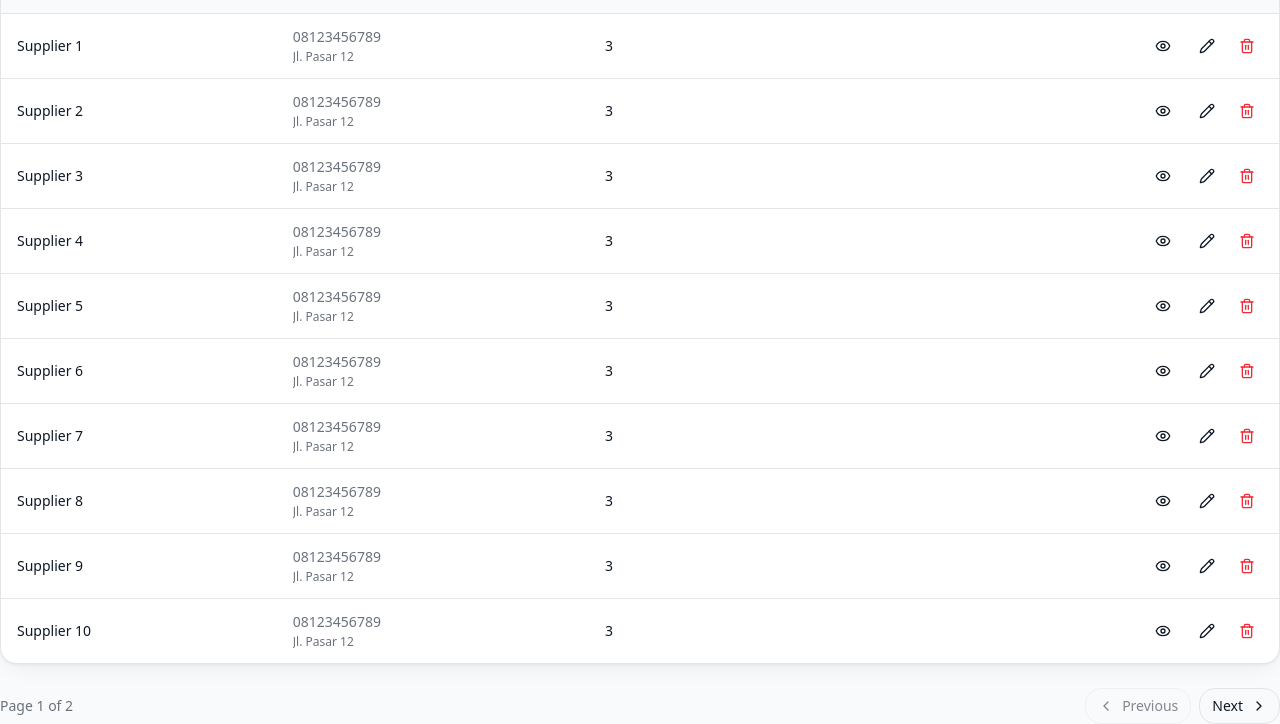
POS-29-2 supplier admin list verification › 5. Supplier pagination controls fetch page 2
(page scrolled)
Expected: the text "Supplier 1" is shown, [1,14,277,78]
Expected: the text "Page 1 of 2" is shown, [0,696,73,716]
Click the button "Next" at (1240, 706), box [1199,688,1279,723]
(page scrolled)
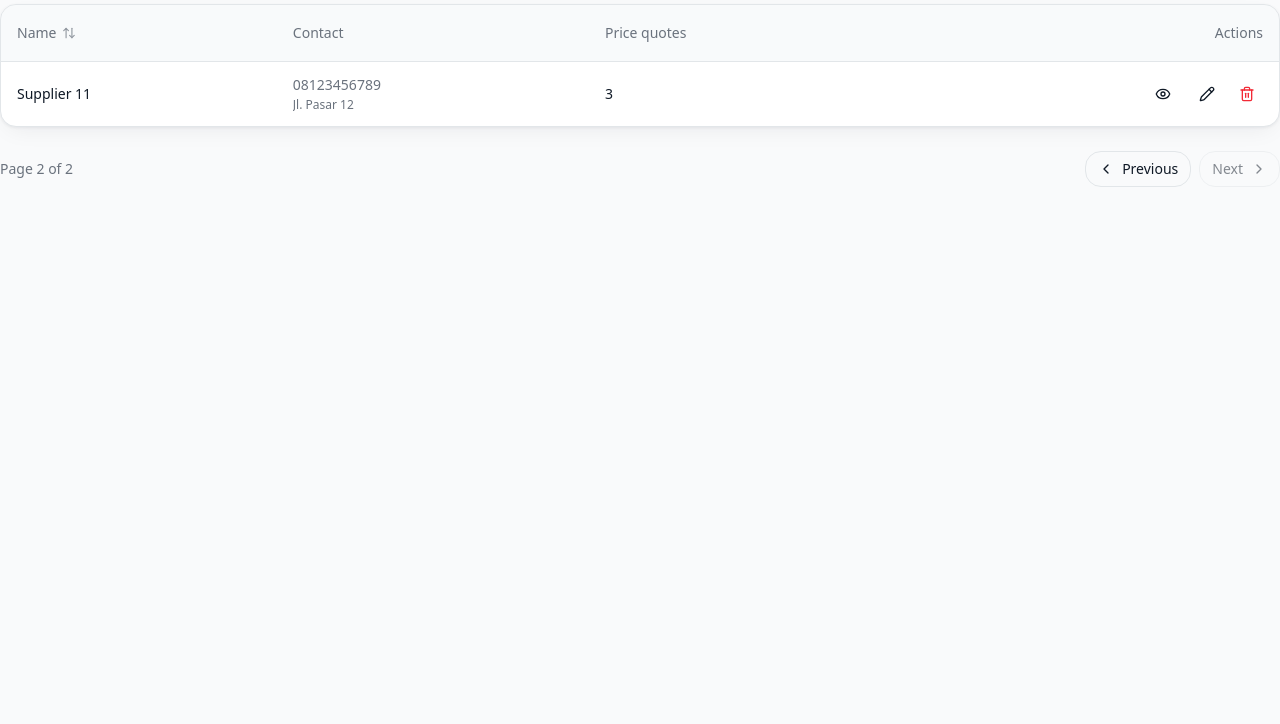
Expected: the text "Supplier 11" is shown, [1,62,277,126]
